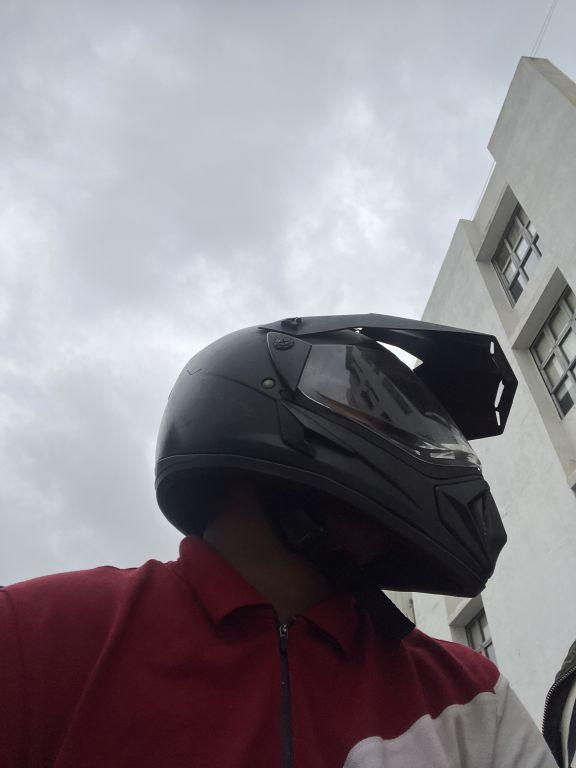helmet: (139, 299, 525, 614)
